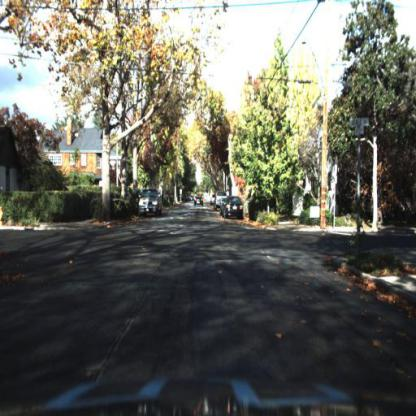car: (137, 186, 166, 221), (223, 195, 246, 222), (213, 189, 225, 212), (192, 194, 206, 210)
